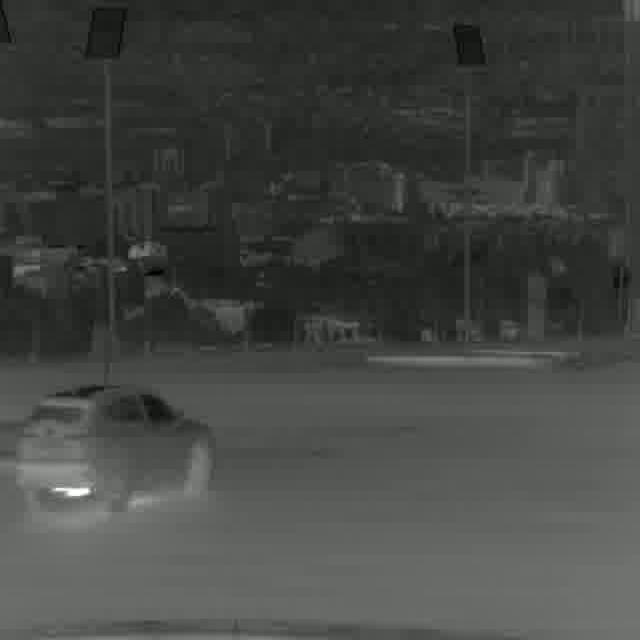Car: (15, 380, 218, 521)
